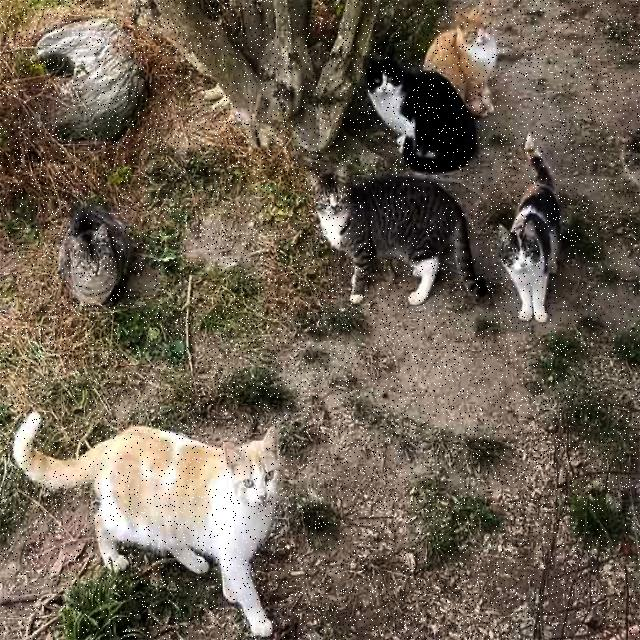cat: (14, 412, 284, 636), (310, 165, 486, 305), (366, 57, 475, 172), (498, 132, 560, 323), (424, 6, 498, 117), (59, 205, 131, 305)
